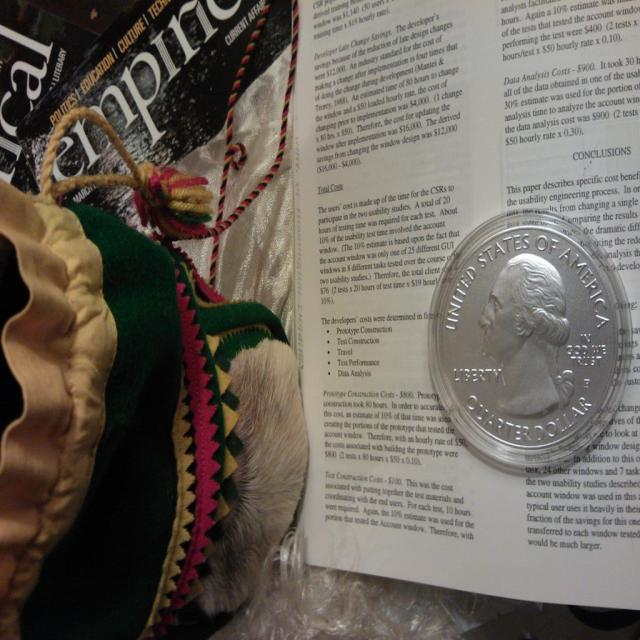Coin: (440, 223, 621, 451)
